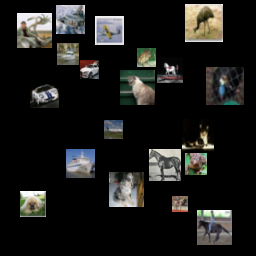airplane: (56, 5, 85, 34), (95, 16, 124, 45), (104, 120, 123, 139)
automobile: (30, 79, 59, 108), (80, 60, 99, 79)
bird: (206, 67, 244, 105), (185, 4, 223, 42)
cat: (120, 70, 155, 105), (182, 119, 214, 151)
deer: (17, 13, 52, 48)
dog: (109, 172, 144, 207), (20, 191, 46, 217)
frog: (185, 153, 207, 175), (137, 48, 156, 67)
ship: (66, 149, 95, 178), (57, 43, 79, 65)
